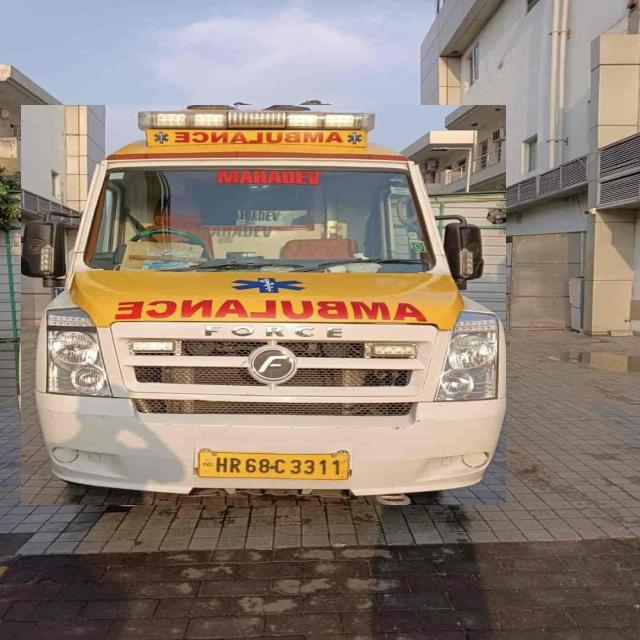emergency: (21, 105, 505, 505)
